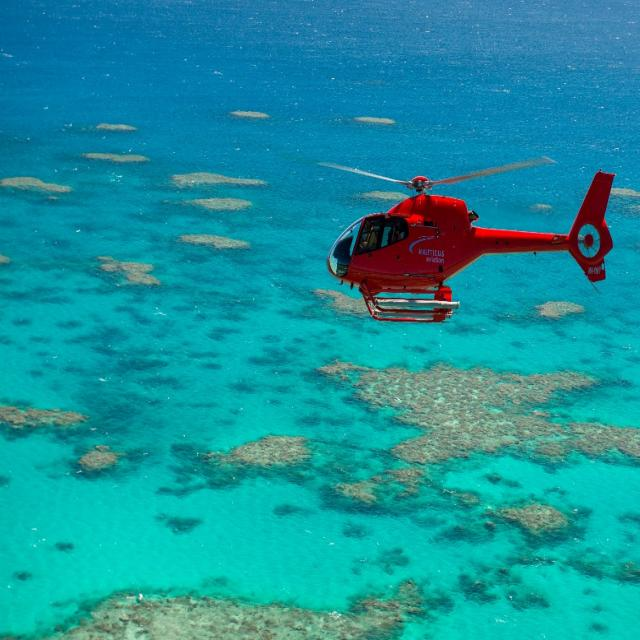helicopter: (320, 164, 617, 324)
